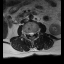CCS_normal: (31, 31, 32, 38)
LFS_stenosis: (34, 30, 36, 35)
LLS_normal: (32, 31, 34, 36)
RFS_stenosis: (27, 31, 29, 37)
RLS_normal: (29, 31, 31, 36)
